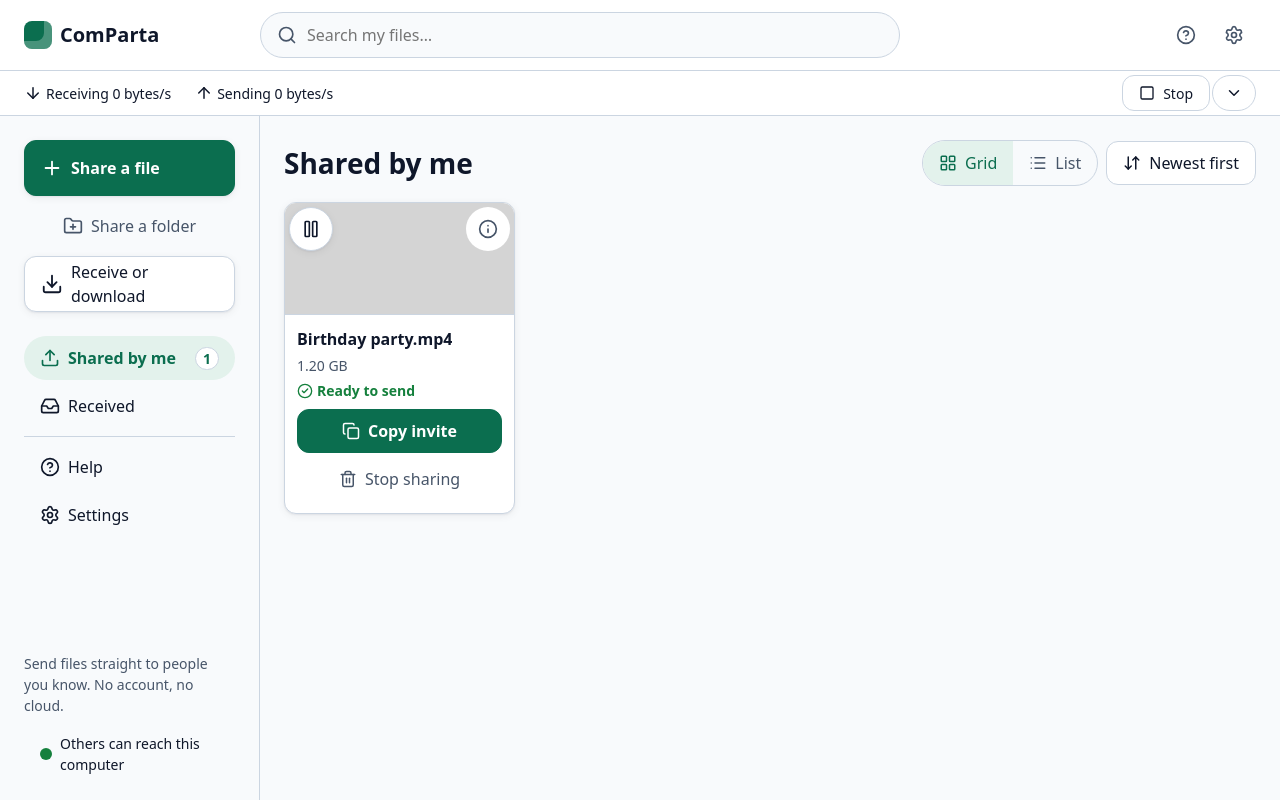
Scenario: each file's own speed and pause or play button › pauses a shared file from its card, shows it paused with play, and play sends it again
Click the button named "Pause Birthday party.mp4".
click(311, 229)  # box left=289, top=207, right=333, bottom=251
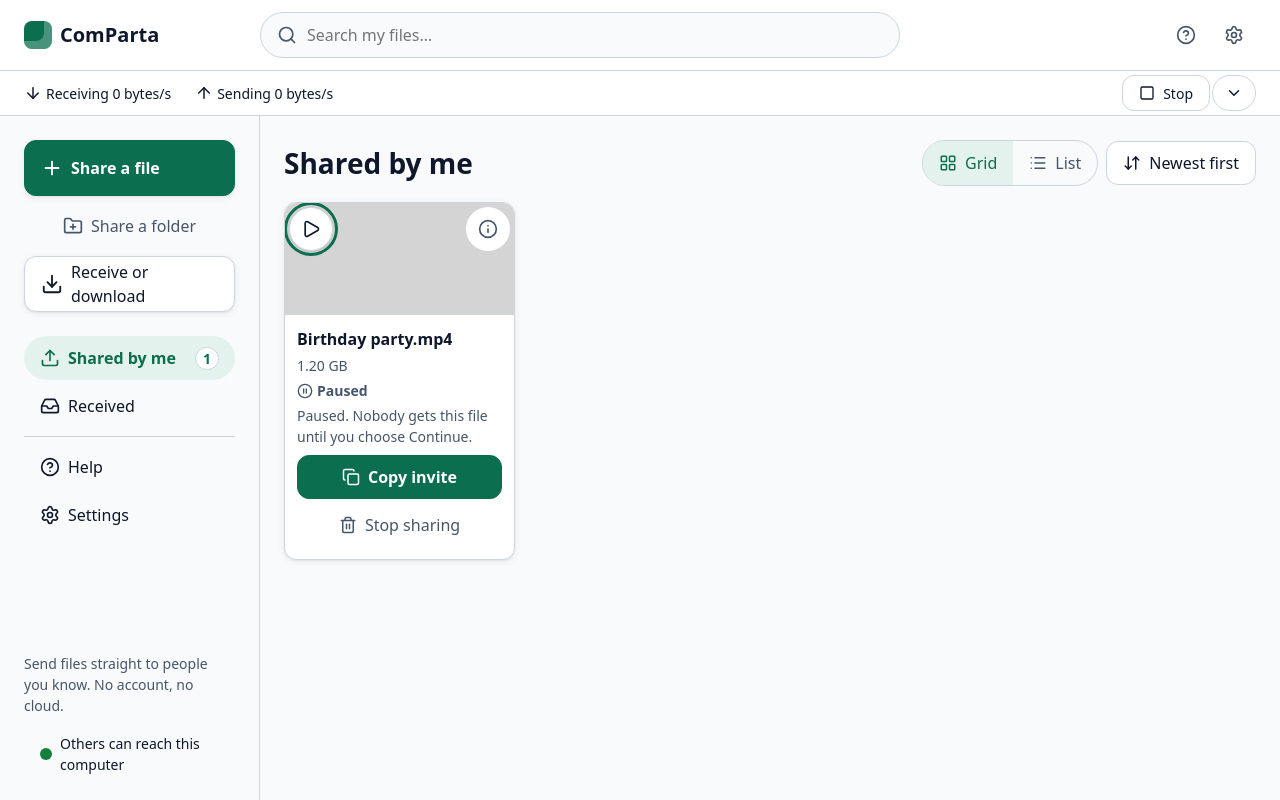
Now the text "Paused. Nobody gets this file until you choose Continue." is shown, box left=297, top=405, right=502, bottom=447
Now the text "Paused" is shown, box left=297, top=380, right=368, bottom=401
Click the button named "Continue Birthday party.mp4".
click(311, 229)  # box left=289, top=207, right=333, bottom=251
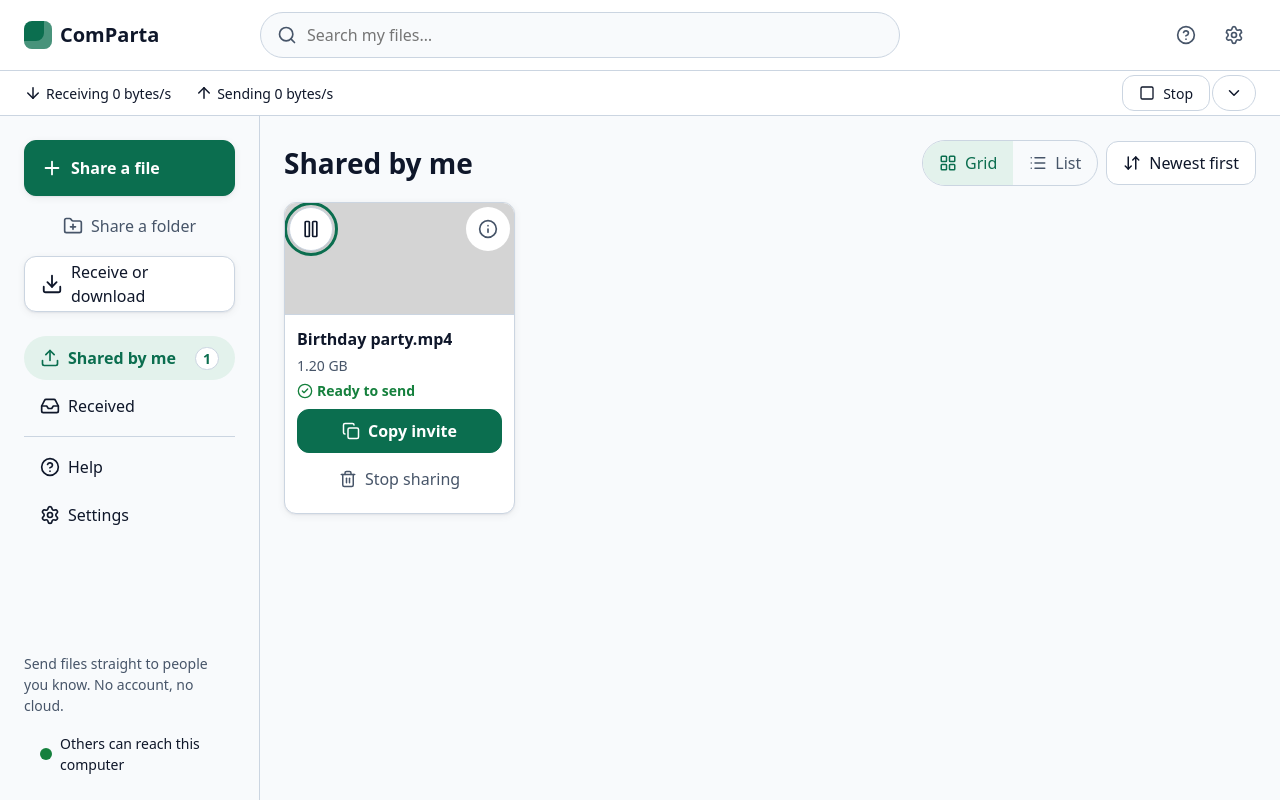
Now the text "Paused. Nobody gets this file until you choose Continue." is gone
